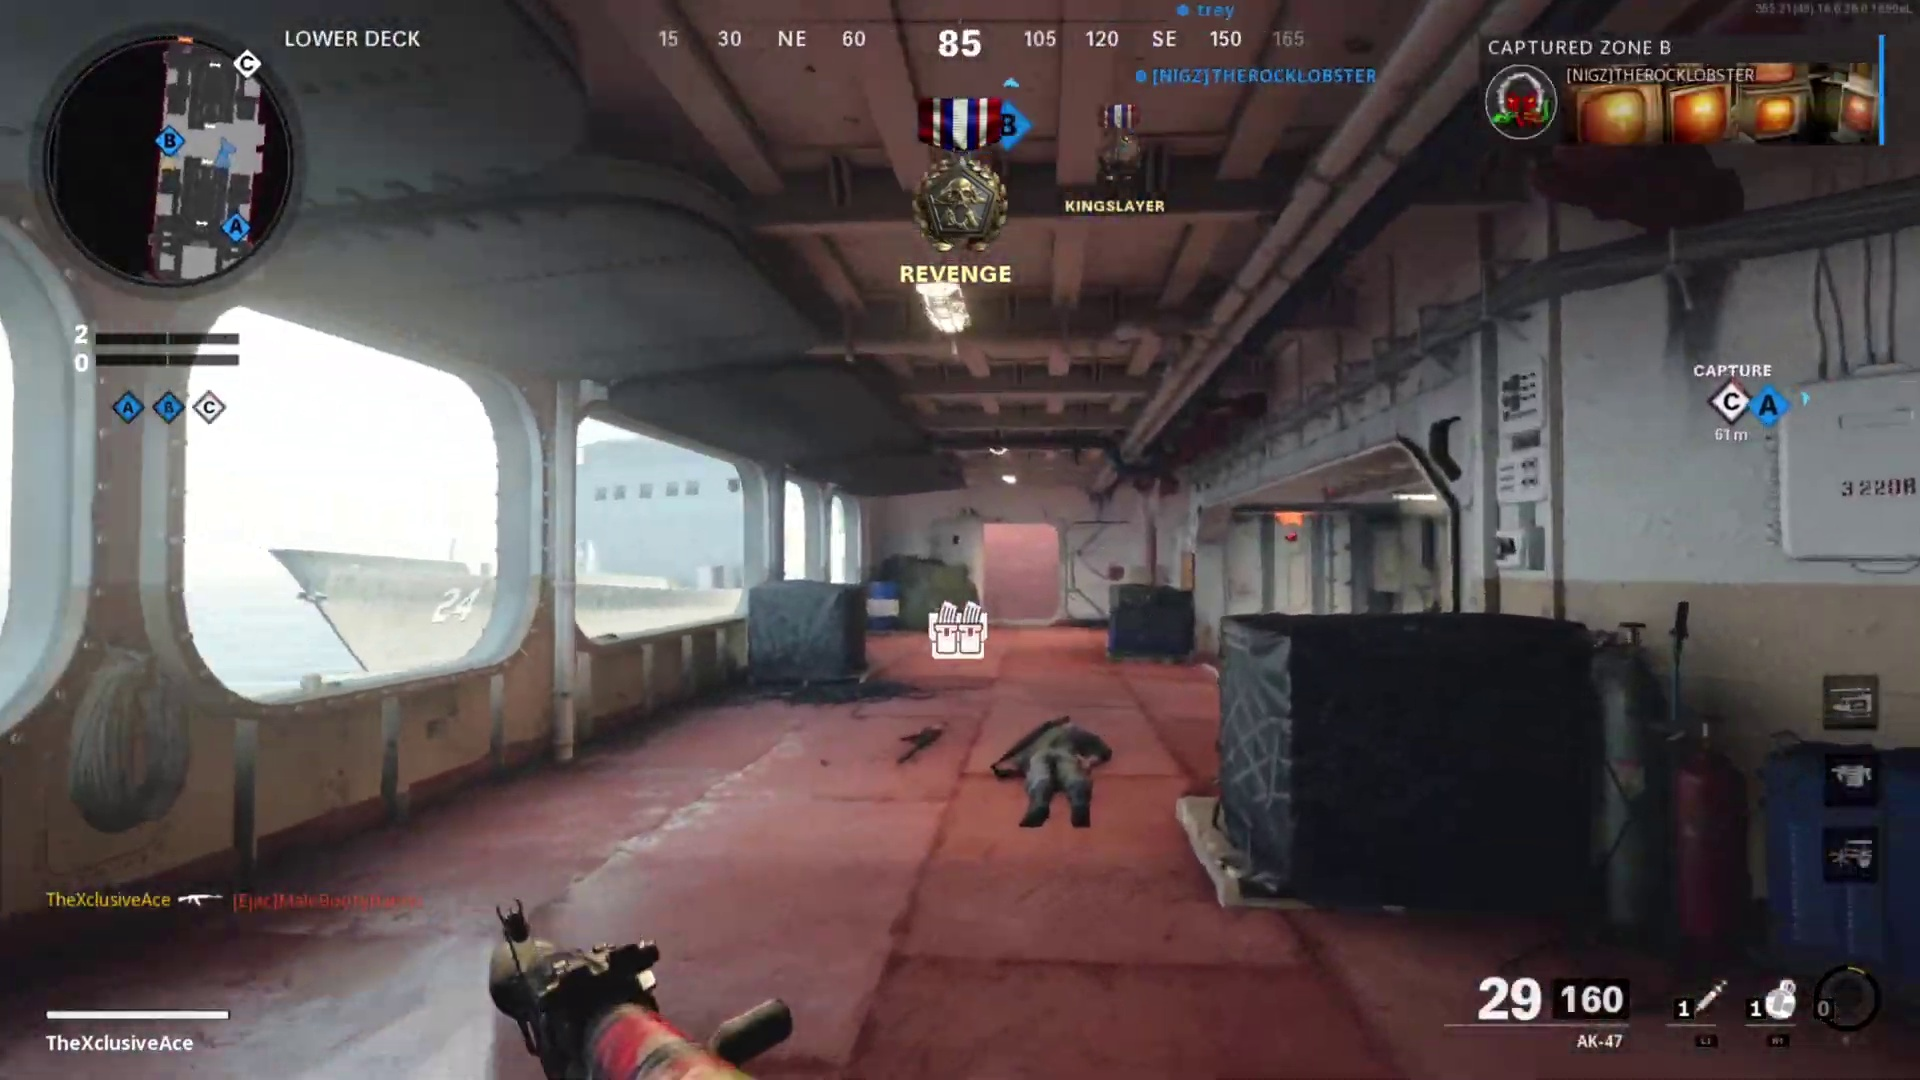person: (994, 714, 1107, 831)
